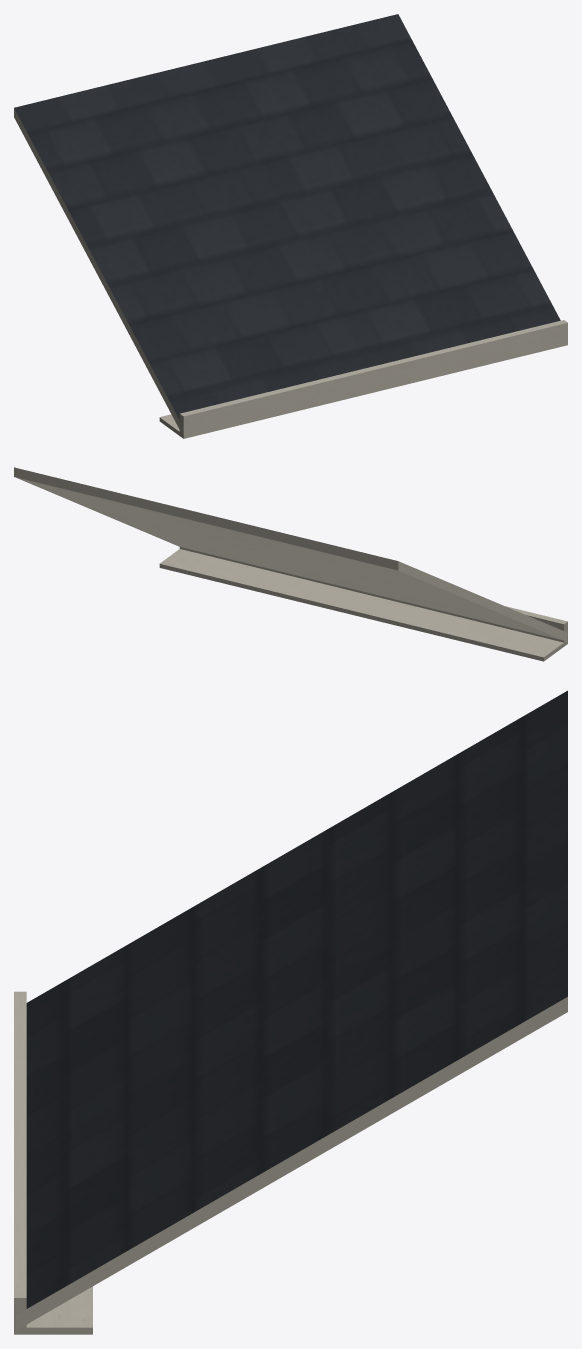
File: house_03_roof_slope.glb
3 renders of one model, top to bottom at view 1: azimuth 30°, elevation 25°; view 2: azimuth 150°, elevation 25°; view 3: azimuth 270°, elevation 25°, orthographic. The views are drawn at different scales.
Parts seen in each view (by area): view 1: outdoor_house_03_roof_slope; view 2: outdoor_house_03_roof_slope; view 3: outdoor_house_03_roof_slope.
Part boxes in pixels (x1,y1,x2,y2): outdoor_house_03_roof_slope: (14,14,567,438); outdoor_house_03_roof_slope: (14,467,567,661); outdoor_house_03_roof_slope: (14,690,567,1334).
Bounding box in the file's own units: 3.4 × 1.75 × 2.6.
1 material, 1 textured.
